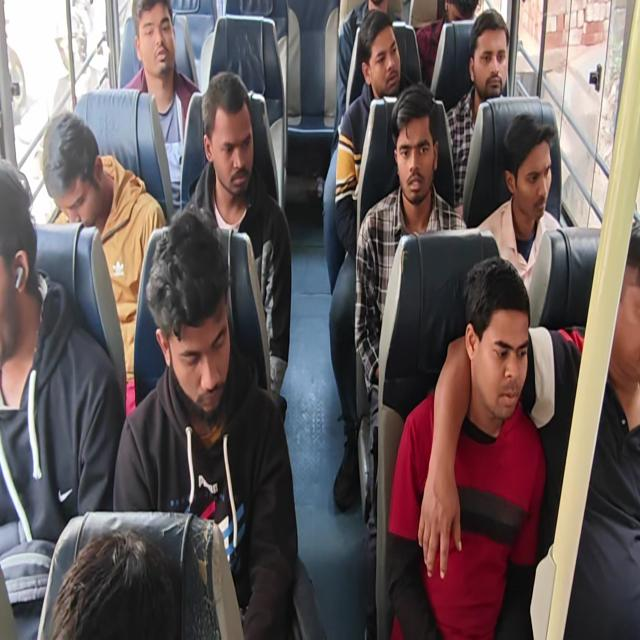person: (144, 211, 236, 412), (52, 516, 192, 630), (461, 246, 532, 429), (39, 105, 116, 229), (500, 106, 562, 233), (2, 142, 34, 384), (199, 64, 256, 197), (599, 219, 640, 391), (390, 76, 438, 208), (348, 12, 414, 99), (466, 2, 514, 98), (132, 0, 178, 83), (446, 0, 479, 26), (366, 0, 389, 18)
